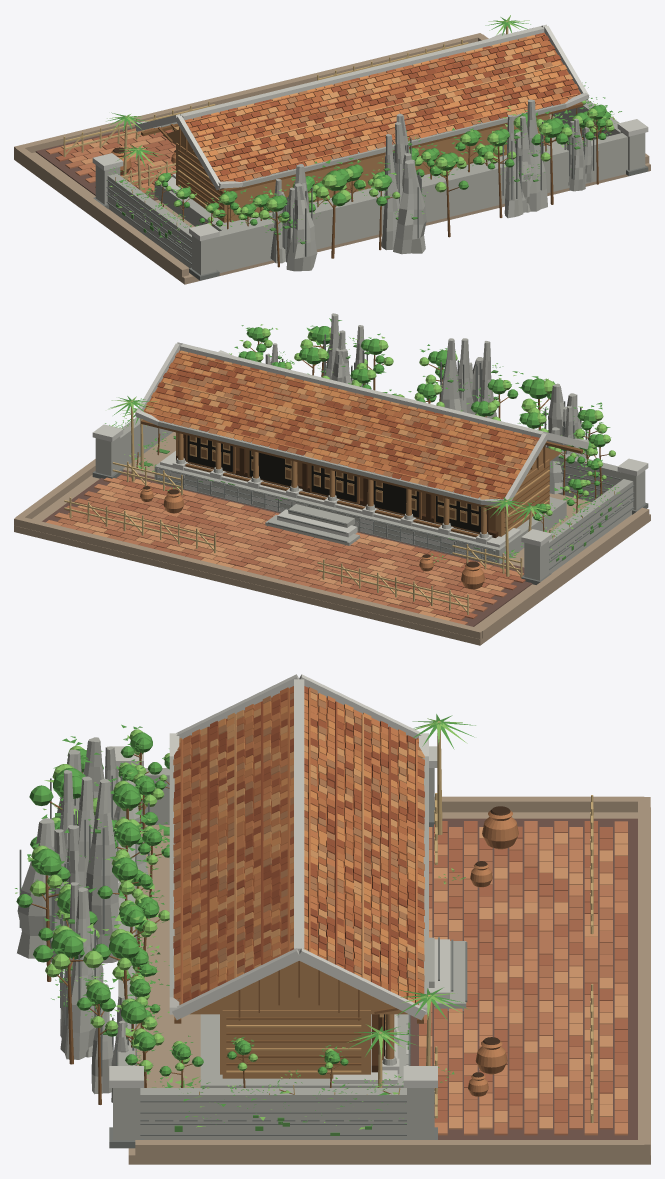
File: Nha-co-Trang-An.glb
3 renders of one model, top to bottom at view 1: azimuth 30°, elevation 25°; view 2: azimuth 150°, elevation 25°; view 3: azimuth 270°, elevation 25°, orthographic. The views are drawn at different scales.
Parts seen in each view (by area): view 1: Trang_An_Heritage_House; view 2: Trang_An_Heritage_House; view 3: Trang_An_Heritage_House.
Boxes of the visible parts, x1,y1,x2,y2 form: Trang_An_Heritage_House: (14,15,650,284); Trang_An_Heritage_House: (14,313,650,645); Trang_An_Heritage_House: (15,674,650,1164).
Size of the model in its own units: 18.64 by 4.75 by 14.39.
